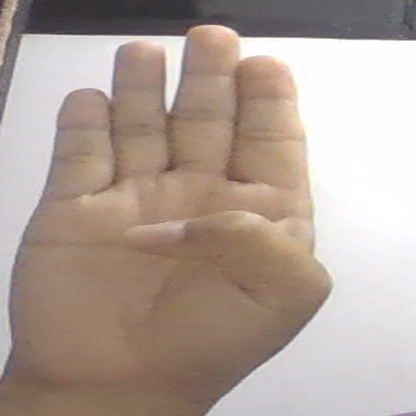B: (0, 24, 332, 399)
